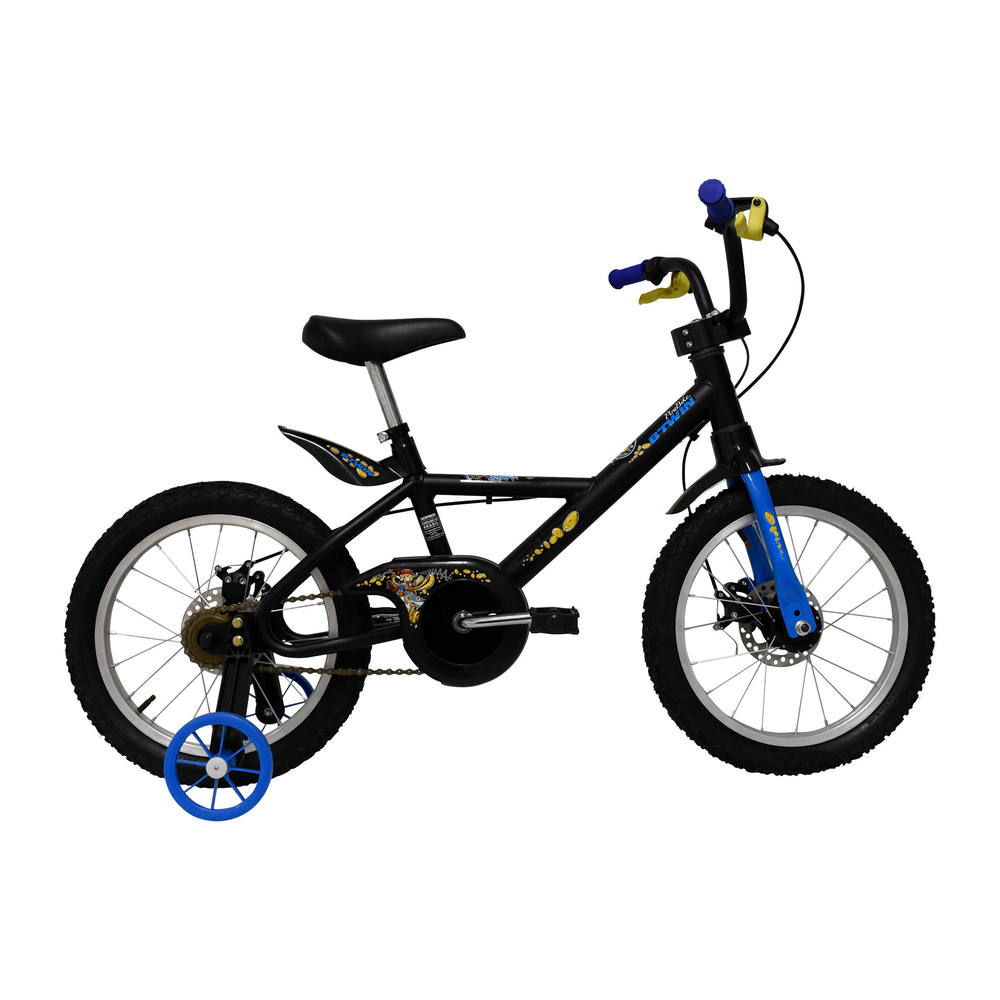RoadBike: (12, 17, 993, 946)
